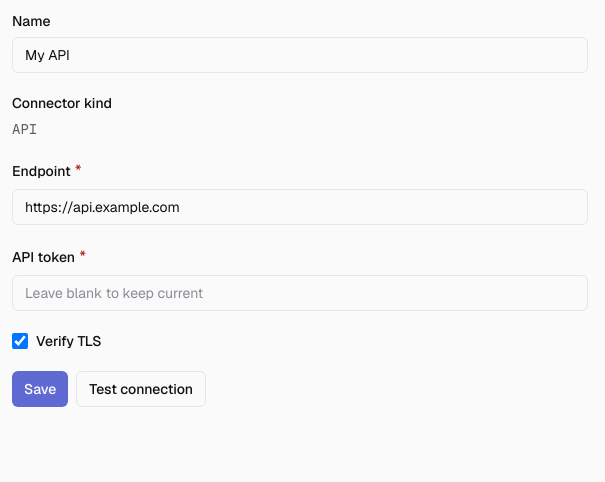
Test case: SourceForm (edit) › runs test-connection and shows the inline result
The width and height of the screenshot is (605, 482).
Click the button "Test connection".
click(141, 389)  # box x1=76 y1=371 x2=206 y2=407
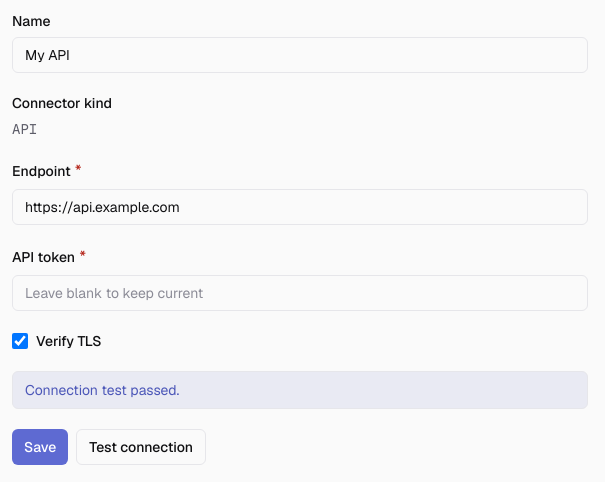
Result: the text "Connection test passed." is shown at x1=12 y1=371 x2=588 y2=409
Click the button "Test connection".
click(141, 447)  # box x1=76 y1=429 x2=206 y2=465
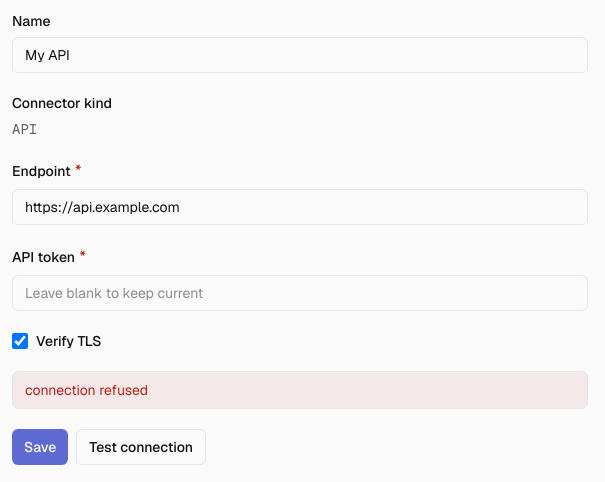
Result: the text "connection refused" is shown at x1=12 y1=371 x2=588 y2=409
